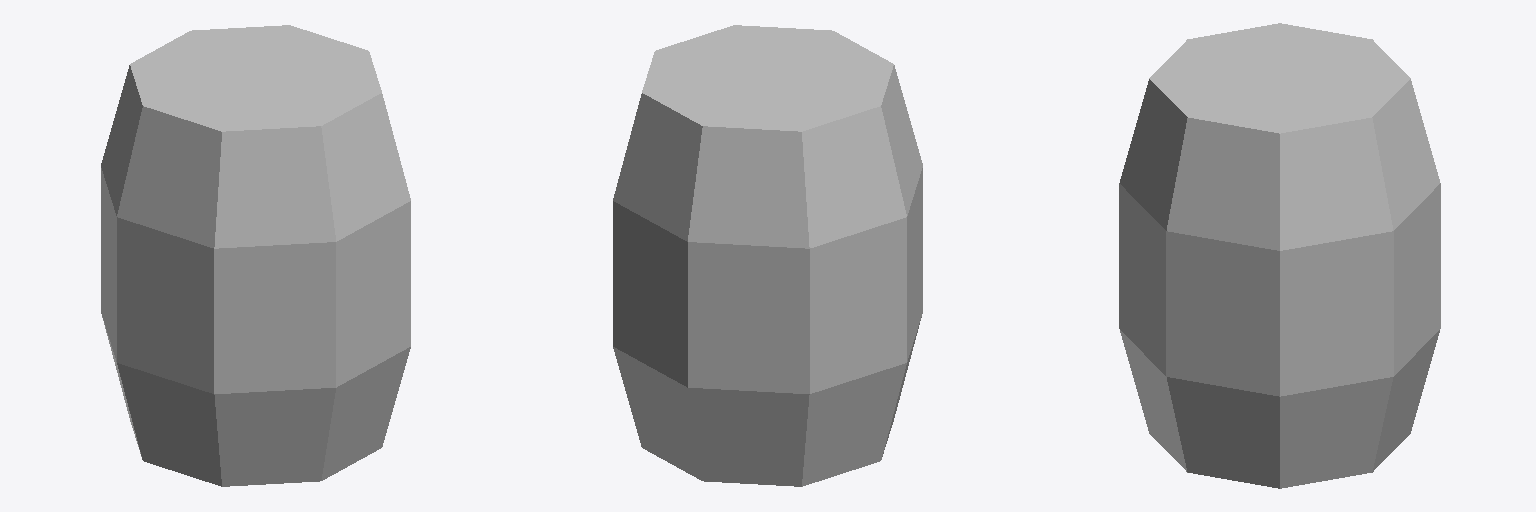
The model's file is detail-barrel.obj.
3 renders of one model, left to right at view 1: azimuth 30°, elevation 25°; view 2: azimuth 150°, elevation 25°; view 3: azimuth 270°, elevation 25°, orthographic.
Parts seen in each view (by area): view 1: detail-barrel; view 2: detail-barrel; view 3: detail-barrel.
Part boxes in pixels (left/top/right/bottom): detail-barrel: left=101, top=25, right=410, bottom=486; detail-barrel: left=613, top=25, right=922, bottom=486; detail-barrel: left=1119, top=23, right=1440, bottom=488.
Bounding box in the file's own units: 0.246 × 0.3 × 0.246.